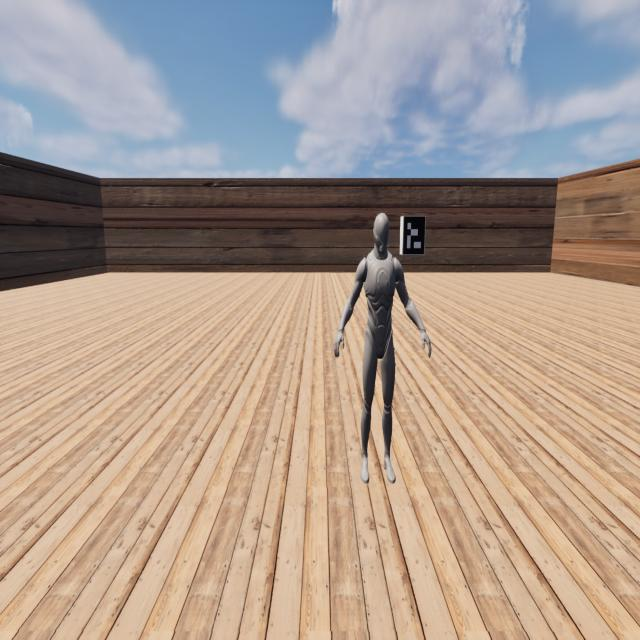aruco: (403, 217, 426, 254)
hip: (364, 328, 394, 338)
